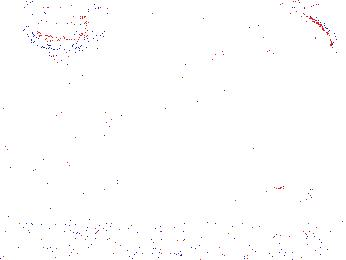moon jellyfish: (21, 1, 103, 52), (269, 7, 340, 64), (83, 82, 139, 151), (172, 4, 231, 65), (125, 29, 198, 75), (219, 4, 268, 67)
